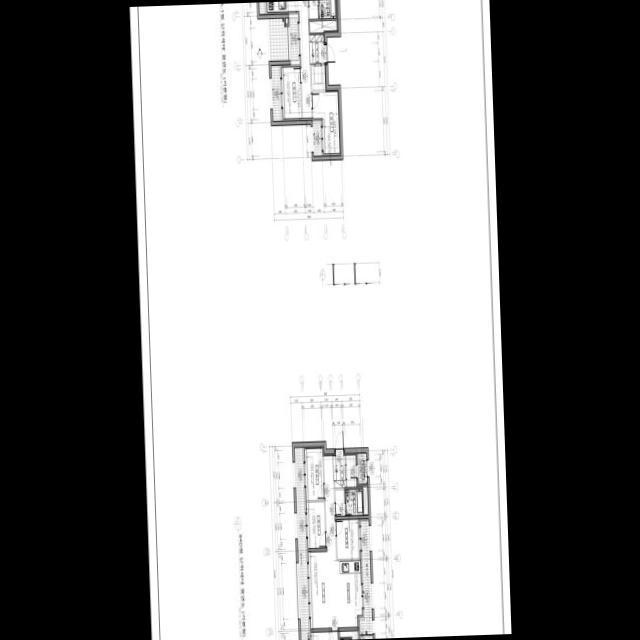background: (129, 0, 511, 640)
space_balconi: (294, 447, 308, 640), (359, 521, 372, 639), (268, 18, 288, 60), (270, 65, 281, 121), (288, 17, 298, 60), (312, 123, 321, 156)
space_bedroom: (312, 91, 340, 155), (281, 67, 301, 120), (304, 448, 323, 500), (306, 502, 325, 548), (310, 631, 338, 640)
space_front: (309, 34, 325, 64), (332, 455, 346, 487)
space_kitchen: (336, 560, 361, 627)
space_living_room: (308, 455, 338, 628), (297, 0, 311, 120)
space_other: (335, 519, 359, 559), (345, 455, 356, 487), (311, 65, 325, 90), (309, 20, 336, 32), (334, 489, 344, 516), (308, 0, 317, 19), (339, 630, 357, 639), (362, 487, 367, 514), (285, 18, 287, 23)
space_outdoor_room: (356, 453, 366, 483)
space_toilet: (344, 488, 362, 515), (318, 0, 335, 18)
